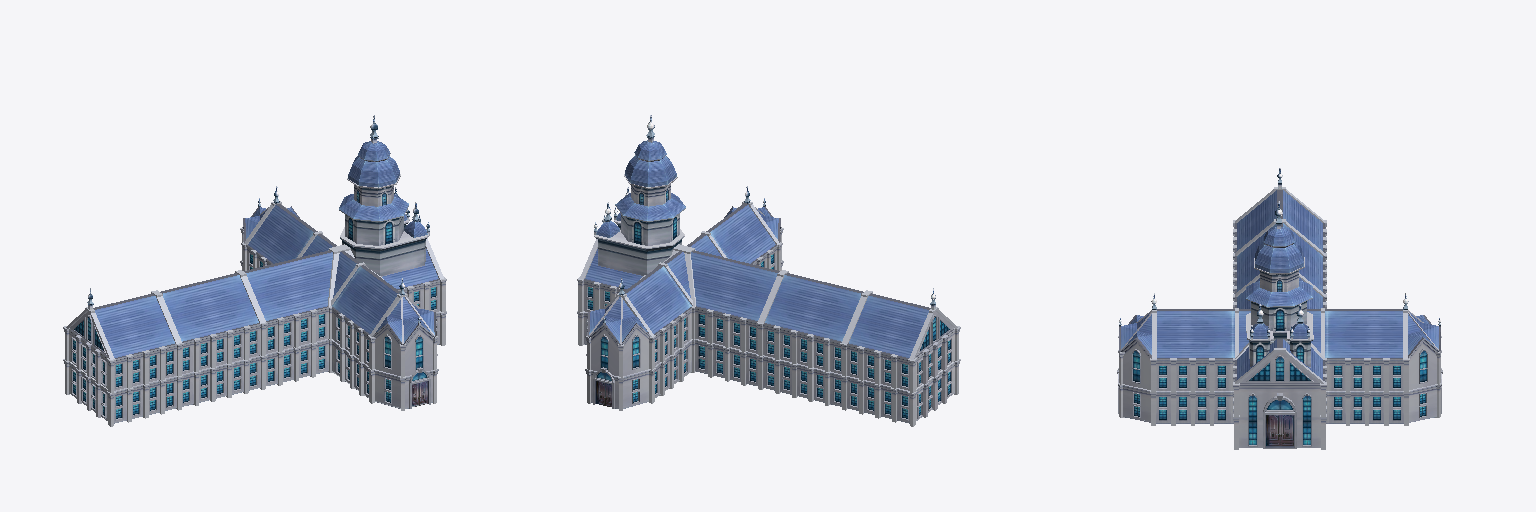
3 views of the same model, side by side, from view 1: azimuth 30°, elevation 25°; view 2: azimuth 150°, elevation 25°; view 3: azimuth 270°, elevation 25° (orthographic).
Parts seen in each view (by area): view 1: W_Circle.002, R_Cube.047, F_Plane.003; view 2: W_Circle.002, R_Cube.047, F_Plane.003; view 3: W_Circle.002, R_Cube.047, F_Plane.003.
Boxes of the visible parts, x1=… form: W_Circle.002: x1=63, y1=153, x2=446, y2=426; R_Cube.047: x1=95, y1=141, x2=438, y2=357; F_Plane.003: x1=73, y1=115, x2=435, y2=421; W_Circle.002: x1=577, y1=154, x2=960, y2=426; R_Cube.047: x1=585, y1=140, x2=928, y2=357; F_Plane.003: x1=588, y1=115, x2=950, y2=418; W_Circle.002: x1=1117, y1=187, x2=1442, y2=449; R_Cube.047: x1=1121, y1=190, x2=1438, y2=379; F_Plane.003: x1=1119, y1=168, x2=1440, y2=445.
Bounding box in the file's own units: 16.01 × 10.22 × 13.36.
4 materials, 3 textured.